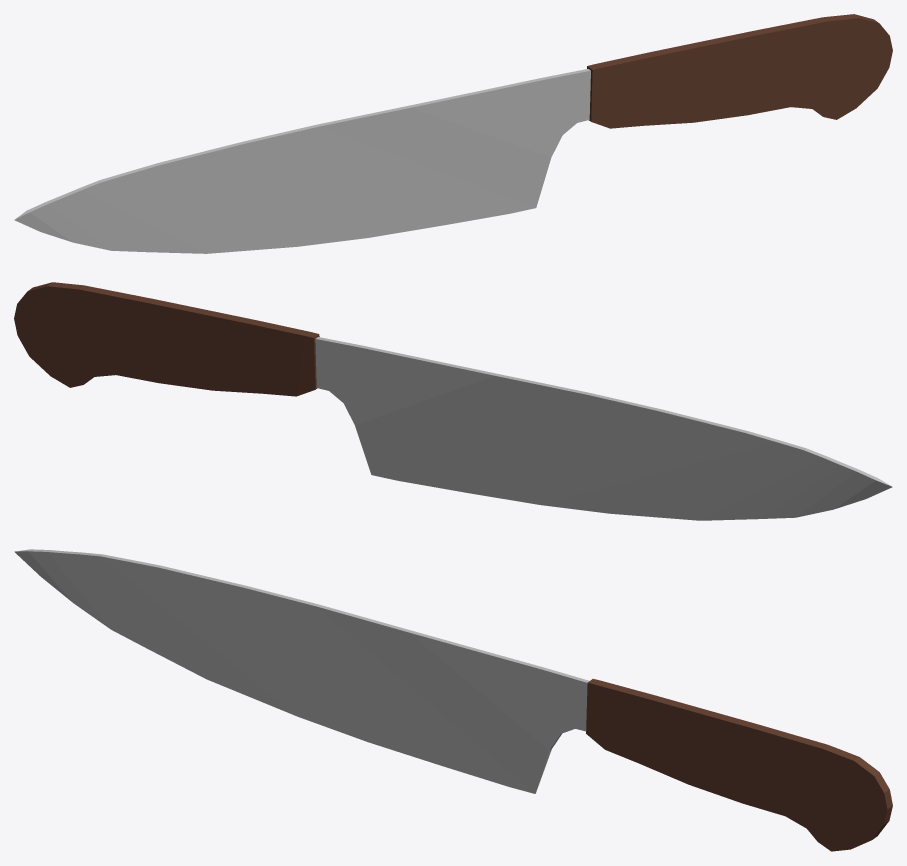
The model's file is Knife1.fbx.
3 renders of one model, top to bottom at view 1: azimuth 30°, elevation 25°; view 2: azimuth 150°, elevation 25°; view 3: azimuth 330°, elevation 25°, orthographic.
Visible parts, largest first — view 1: Plane, Plane.001; view 2: Plane, Plane.001; view 3: Plane, Plane.001.
Part boxes in pixels (bbox=[...]): Plane: bbox=[14, 69, 590, 253]; Plane.001: bbox=[587, 14, 892, 128]; Plane: bbox=[315, 337, 892, 520]; Plane.001: bbox=[14, 282, 319, 396]; Plane: bbox=[14, 549, 589, 793]; Plane.001: bbox=[586, 679, 892, 851].
Size of the model in its own units: 749 by 111 by 8.35.
